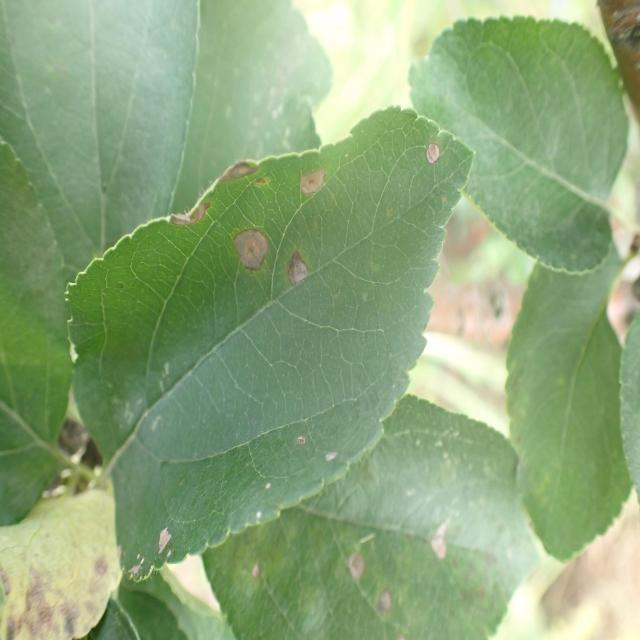frog-eye-leaf-spot: (67, 107, 476, 583), (202, 393, 544, 640)
